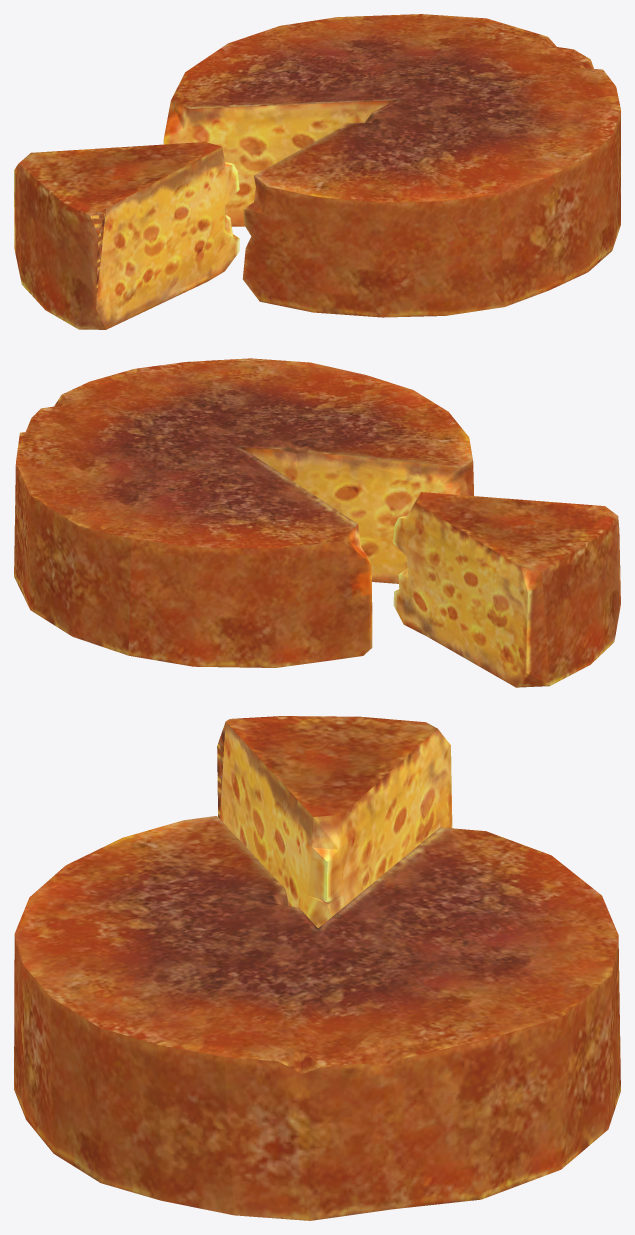
The model's file is cheesecake.glb.
3 views of the same model, one above another, from view 1: azimuth 30°, elevation 25°; view 2: azimuth 150°, elevation 25°; view 3: azimuth 270°, elevation 25° (orthographic). The views are drawn at different scales.
Visible parts, largest first — view 1: Material3, Material2; view 2: Material3, Material2; view 3: Material3, Material2.
Boxes of the visible parts, <box> form: Material3: <box>163,14,620,317</box>; Material2: <box>14,142,239,329</box>; Material3: <box>14,358,473,667</box>; Material2: <box>393,492,620,687</box>; Material3: <box>14,816,620,1220</box>; Material2: <box>217,716,452,927</box>.
Bounding box in the file's own units: 22.27 × 5.15 × 16.07.
3 materials, 2 textured.
